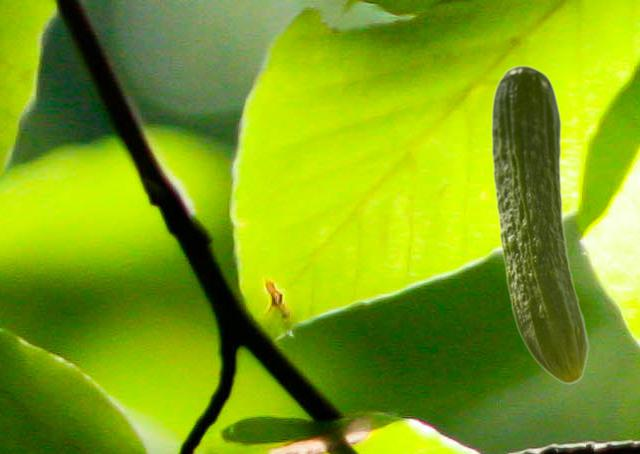cucumber: (490, 64, 588, 384)
